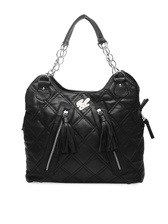bag: (17, 15, 157, 186)
